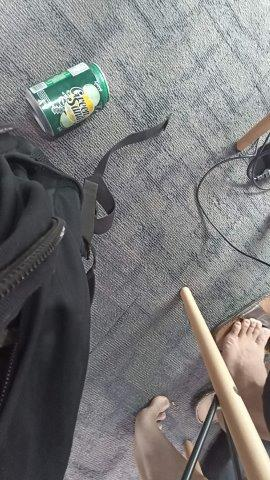kaleng: (25, 62, 110, 137)
